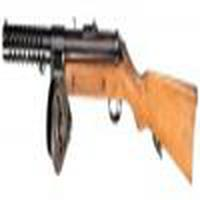gun: (2, 19, 197, 150)
